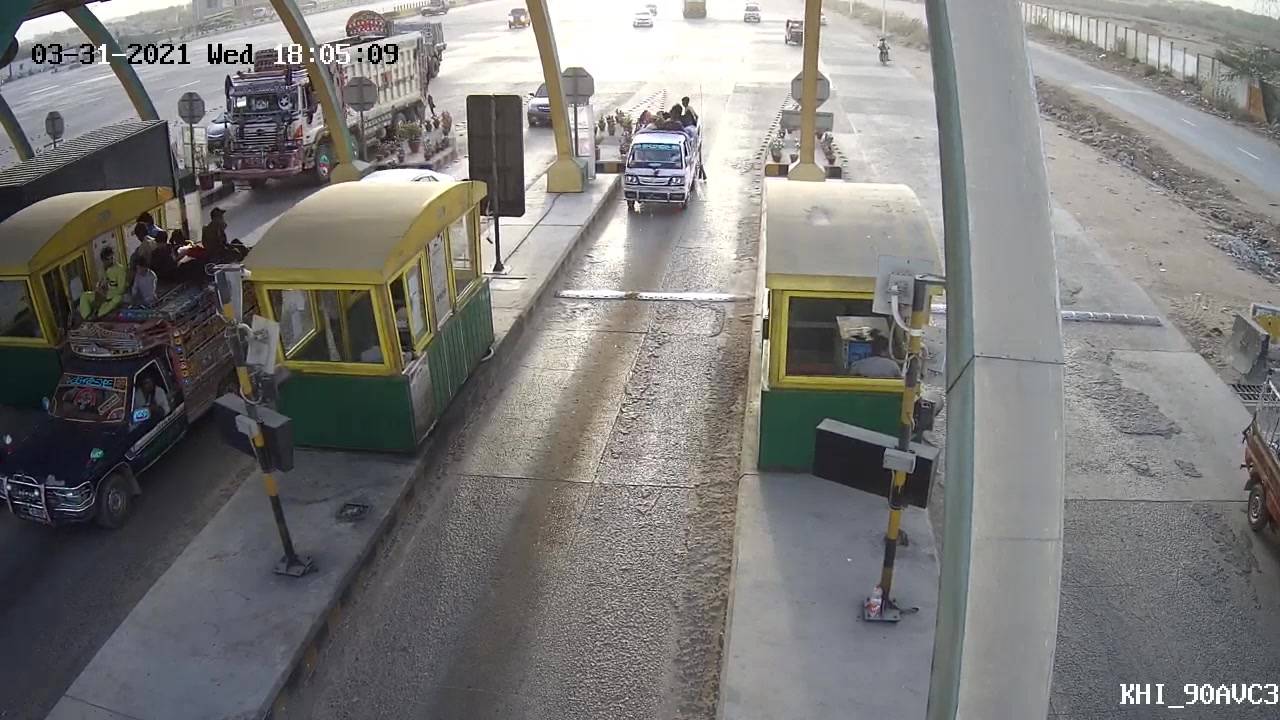F2: (617, 95, 708, 219)
